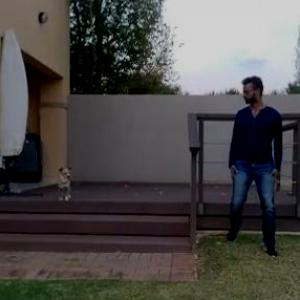follow: (226, 71, 279, 264)
